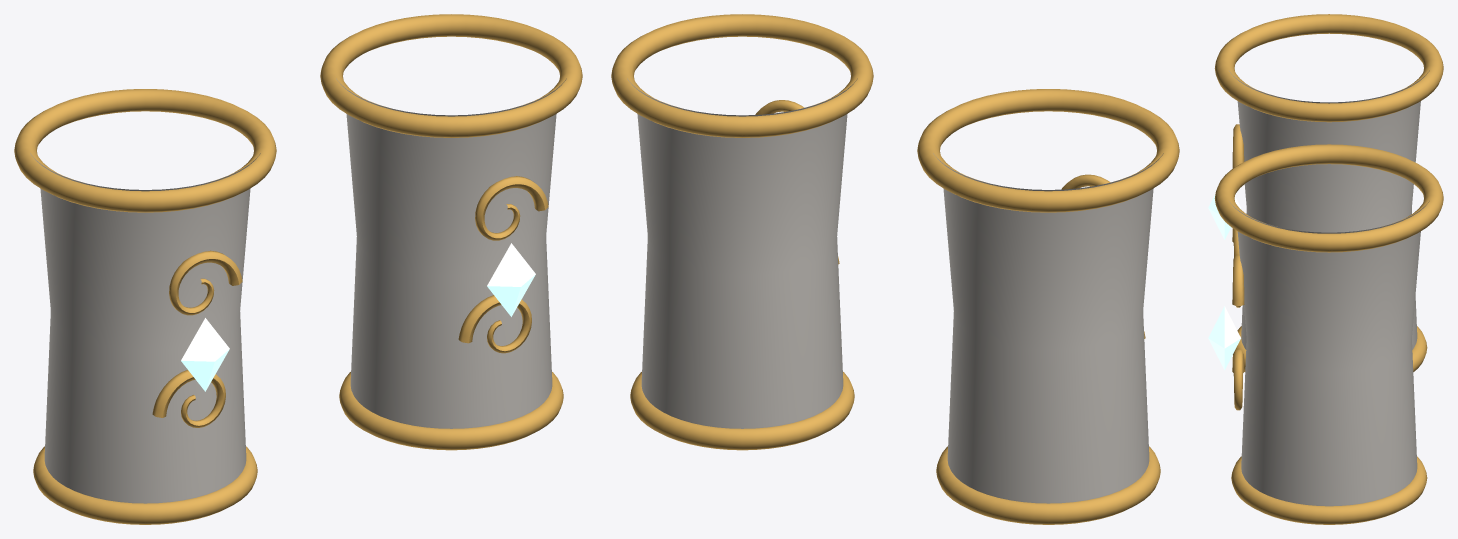
File: bracers.glb
3 renders of one model, left to right at view 1: azimuth 30°, elevation 25°; view 2: azimuth 150°, elevation 25°; view 3: azimuth 270°, elevation 25°, orthographic. The views are drawn at different scales.
Visible parts, largest first — view 1: bracers, ornament, gems; view 2: bracers, ornament; view 3: bracers, ornament, gems.
Boxes of the visible parts, x1,y1,x2,y2 form: bracers: (30,78,566,503); ornament: (14,14,582,524); gems: (181,243,535,391); bracers: (627,78,1163,503); ornament: (611,14,1179,524); bracers: (1229,70,1429,506); ornament: (1214,14,1443,524); gems: (1208,194,1240,370).
Bounding box in the file's own units: 0.976 × 0.6 × 0.428.
